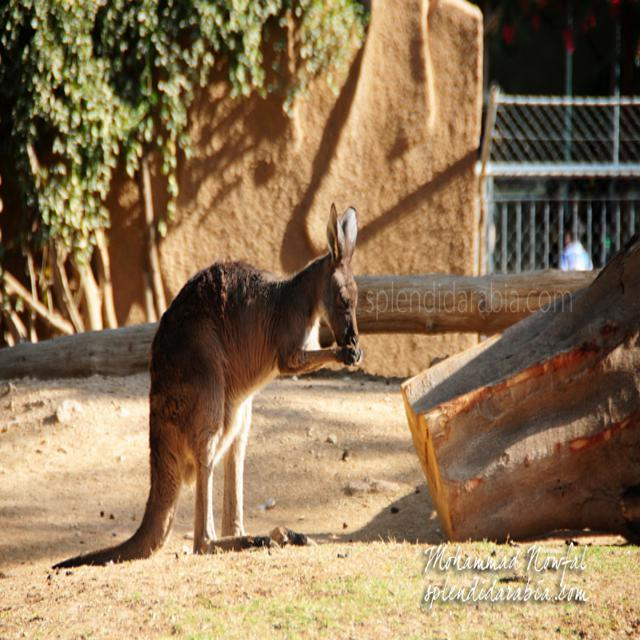kangaroo: (88, 206, 369, 567)
